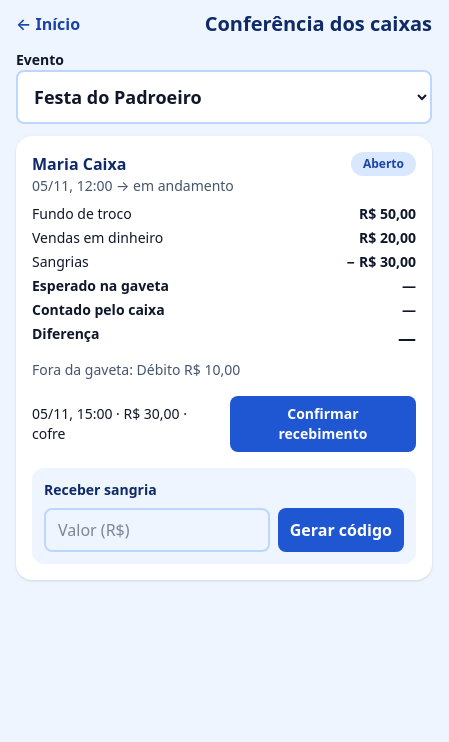
Test: conferência dos caixas (Conselho) › gera o código da sangria para um turno aberto e mostra os 6 dígitos
Expected: the text "Maria Caixa" is shown, [32, 153, 126, 175]
Type "100,00" into the field named "Valor da sangria a receber".
click(157, 530); type("100,00")  # box [44, 508, 270, 552]
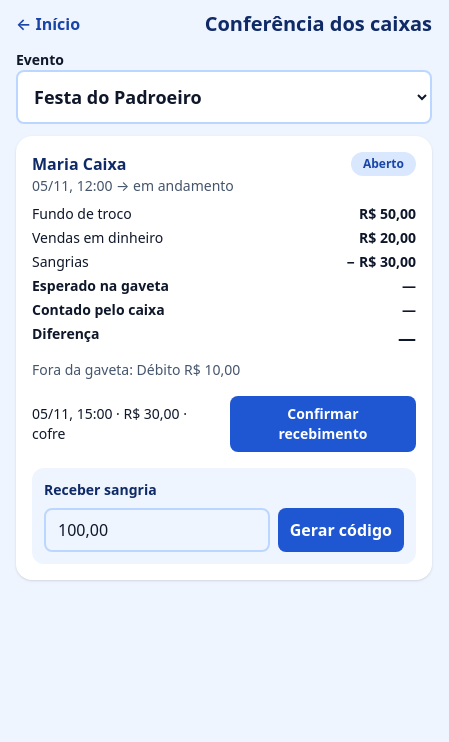
Click the button "Gerar código".
click(341, 530)  # box [278, 508, 404, 552]
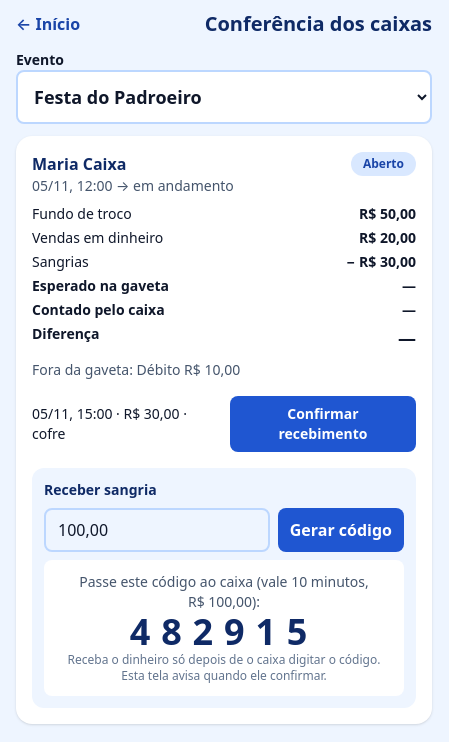
Now the text named "Código gerado" reads "482915", box [130, 607, 318, 656]
